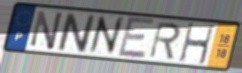E: (116, 15, 157, 60)
H: (177, 22, 216, 67)
N: (56, 11, 97, 55), (87, 14, 125, 56), (29, 9, 65, 52)
R: (147, 21, 183, 61)
